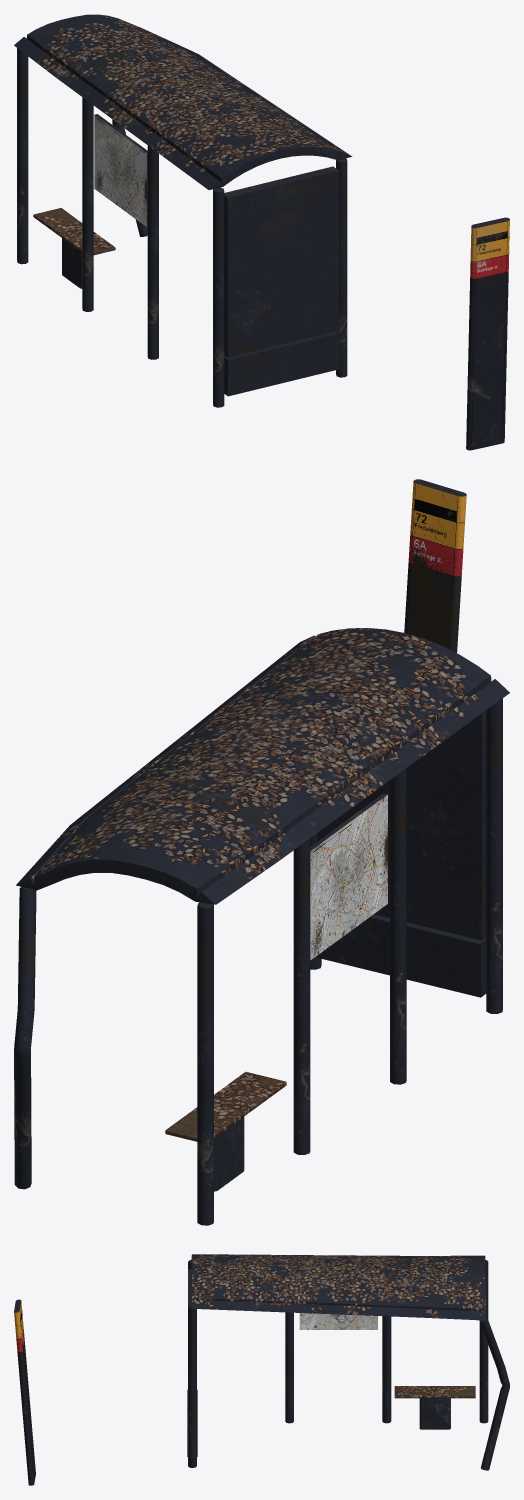
File: busStop.fbx
The picture shows the model from 3 angles, top to bottom: view 1: azimuth 30°, elevation 25°; view 2: azimuth 150°, elevation 25°; view 3: azimuth 270°, elevation 25°; orthographic projection. The views are drawn at different scales.
Parts seen in each view (by area): view 1: busStop; view 2: busStop; view 3: busStop.
Boxes of the visible parts, bbox=[...] form: busStop: bbox=[14, 14, 509, 450]; busStop: bbox=[14, 479, 509, 1225]; busStop: bbox=[14, 1254, 509, 1485].
Bounding box in the file's own units: 62.1 × 77.8 × 191.
